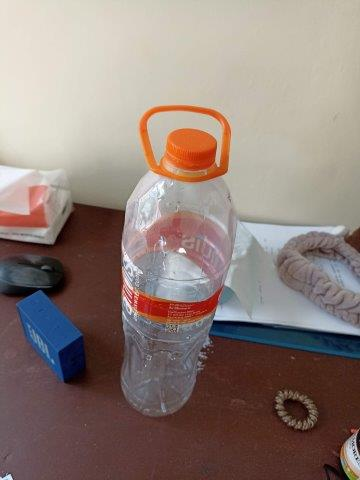botolplastik: (119, 129, 238, 416)
